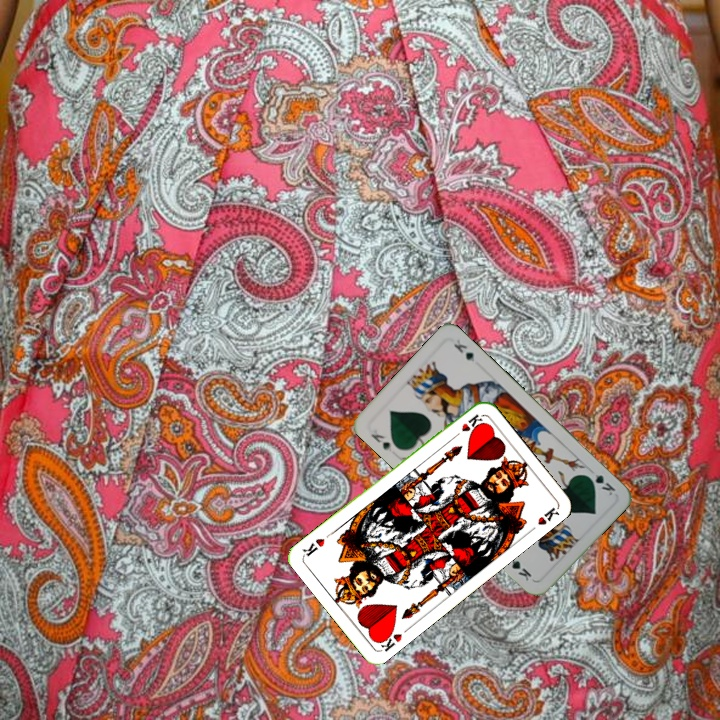GK: (582, 468, 618, 498), (367, 429, 394, 454)
HK: (449, 410, 485, 441), (373, 625, 405, 654)
